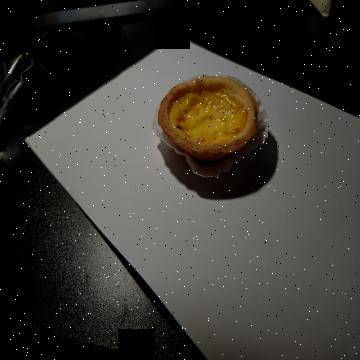EggTart: (157, 74, 260, 162)
